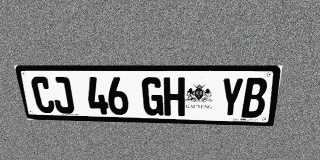4: (85, 77, 109, 114)
6: (106, 77, 129, 115)
B: (241, 78, 269, 118)
C: (30, 76, 56, 113)
G: (141, 77, 164, 116)
H: (163, 77, 185, 116)
J: (50, 77, 75, 114)
Y: (219, 78, 244, 117)
